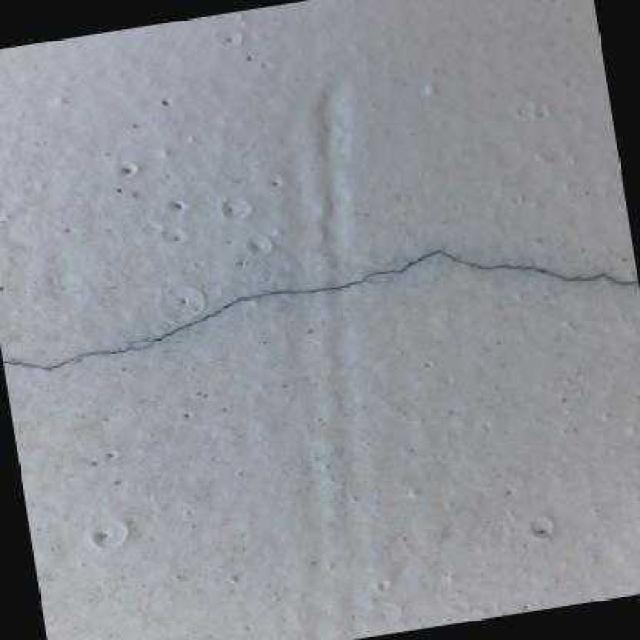D00: (1, 241, 639, 374)
